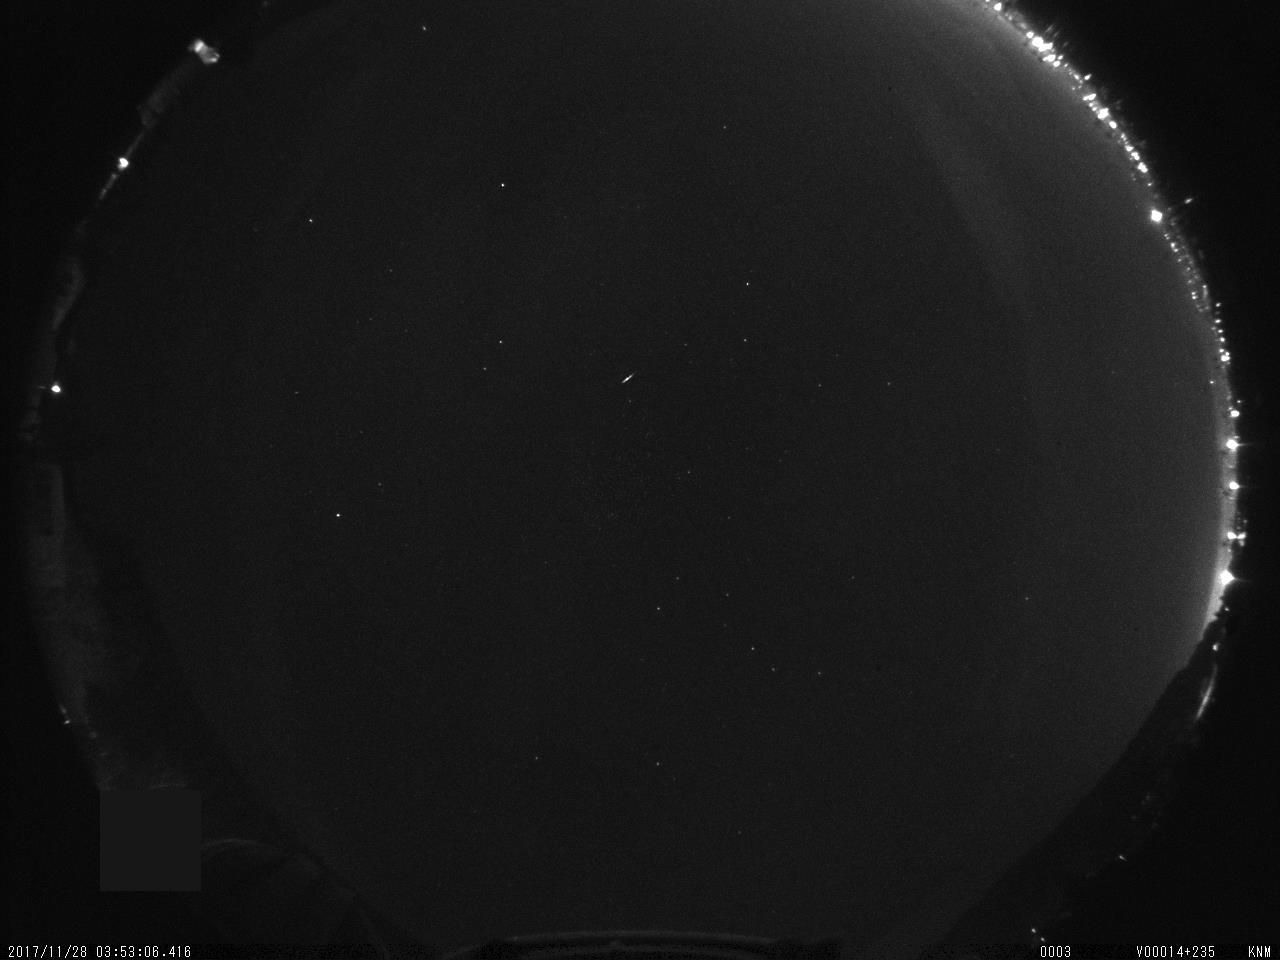meteor: (614, 364, 641, 392)
